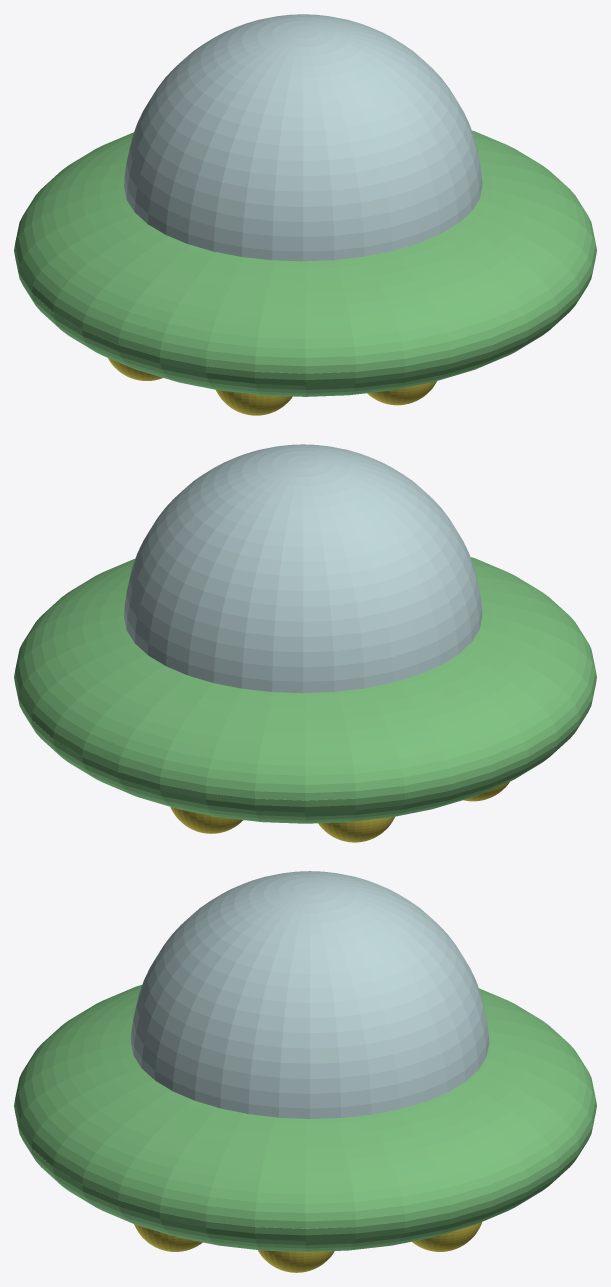
The model's file is GreenFlyingSaucer.glb.
3 renders of one model, top to bottom at view 1: azimuth 30°, elevation 25°; view 2: azimuth 150°, elevation 25°; view 3: azimuth 270°, elevation 25°, orthographic.
Visible parts, largest first — view 1: Mesh_Mesh_head_geo.001_lambert2SG.001; view 2: Mesh_Mesh_head_geo.001_lambert2SG.001; view 3: Mesh_Mesh_head_geo.001_lambert2SG.001.
Part boxes in pixels (box(x1,y1,x2,y2)): Mesh_Mesh_head_geo.001_lambert2SG.001: box(14, 14, 596, 415); Mesh_Mesh_head_geo.001_lambert2SG.001: box(14, 444, 596, 842); Mesh_Mesh_head_geo.001_lambert2SG.001: box(14, 871, 596, 1272).
Bounding box in the file's own units: 130 × 74 × 130.
